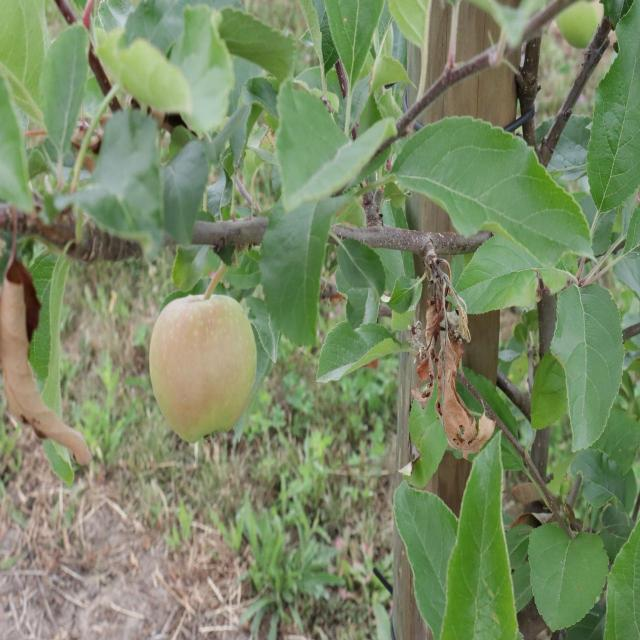-FireBlight-: (401, 243, 495, 452)
